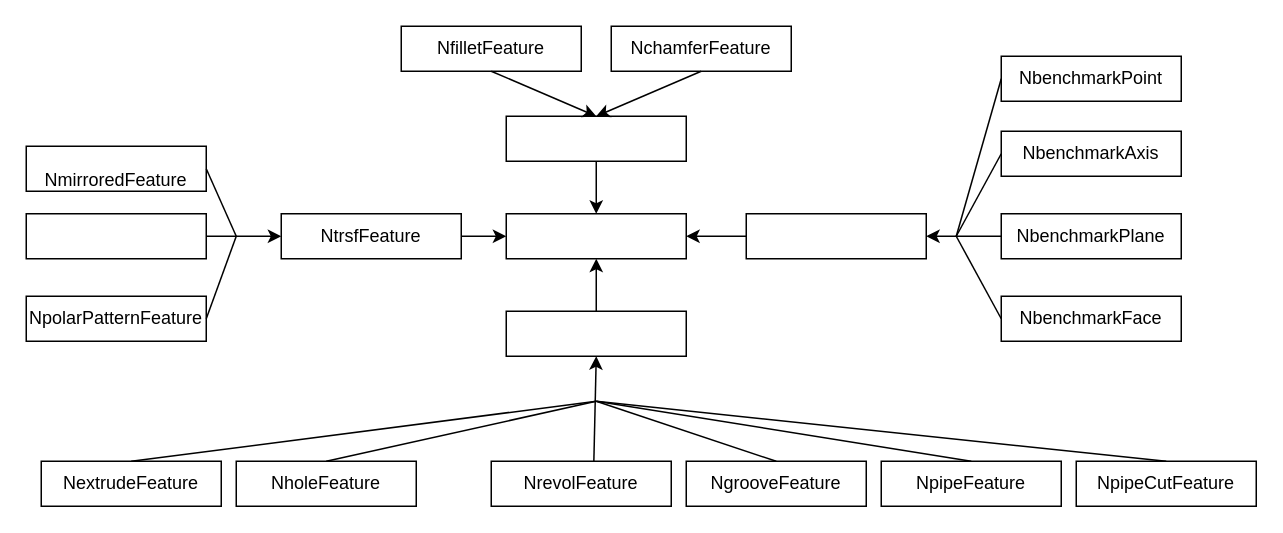
Some shapes in this 1283 by 533 pixel diagram are drawn without their labels. The shapes that lost their labels are listed below. From the top down, each one's centre as x and y in pixels, then its label:
At (x=595, y=138): "NdecorativeFeature".
At (x=115, y=235): "NlinearPatternFeature".
At (x=595, y=235): "Nfeature".
At (x=835, y=235): "NbenchmarkFeature".
At (x=595, y=333): "NbasicFeature".
